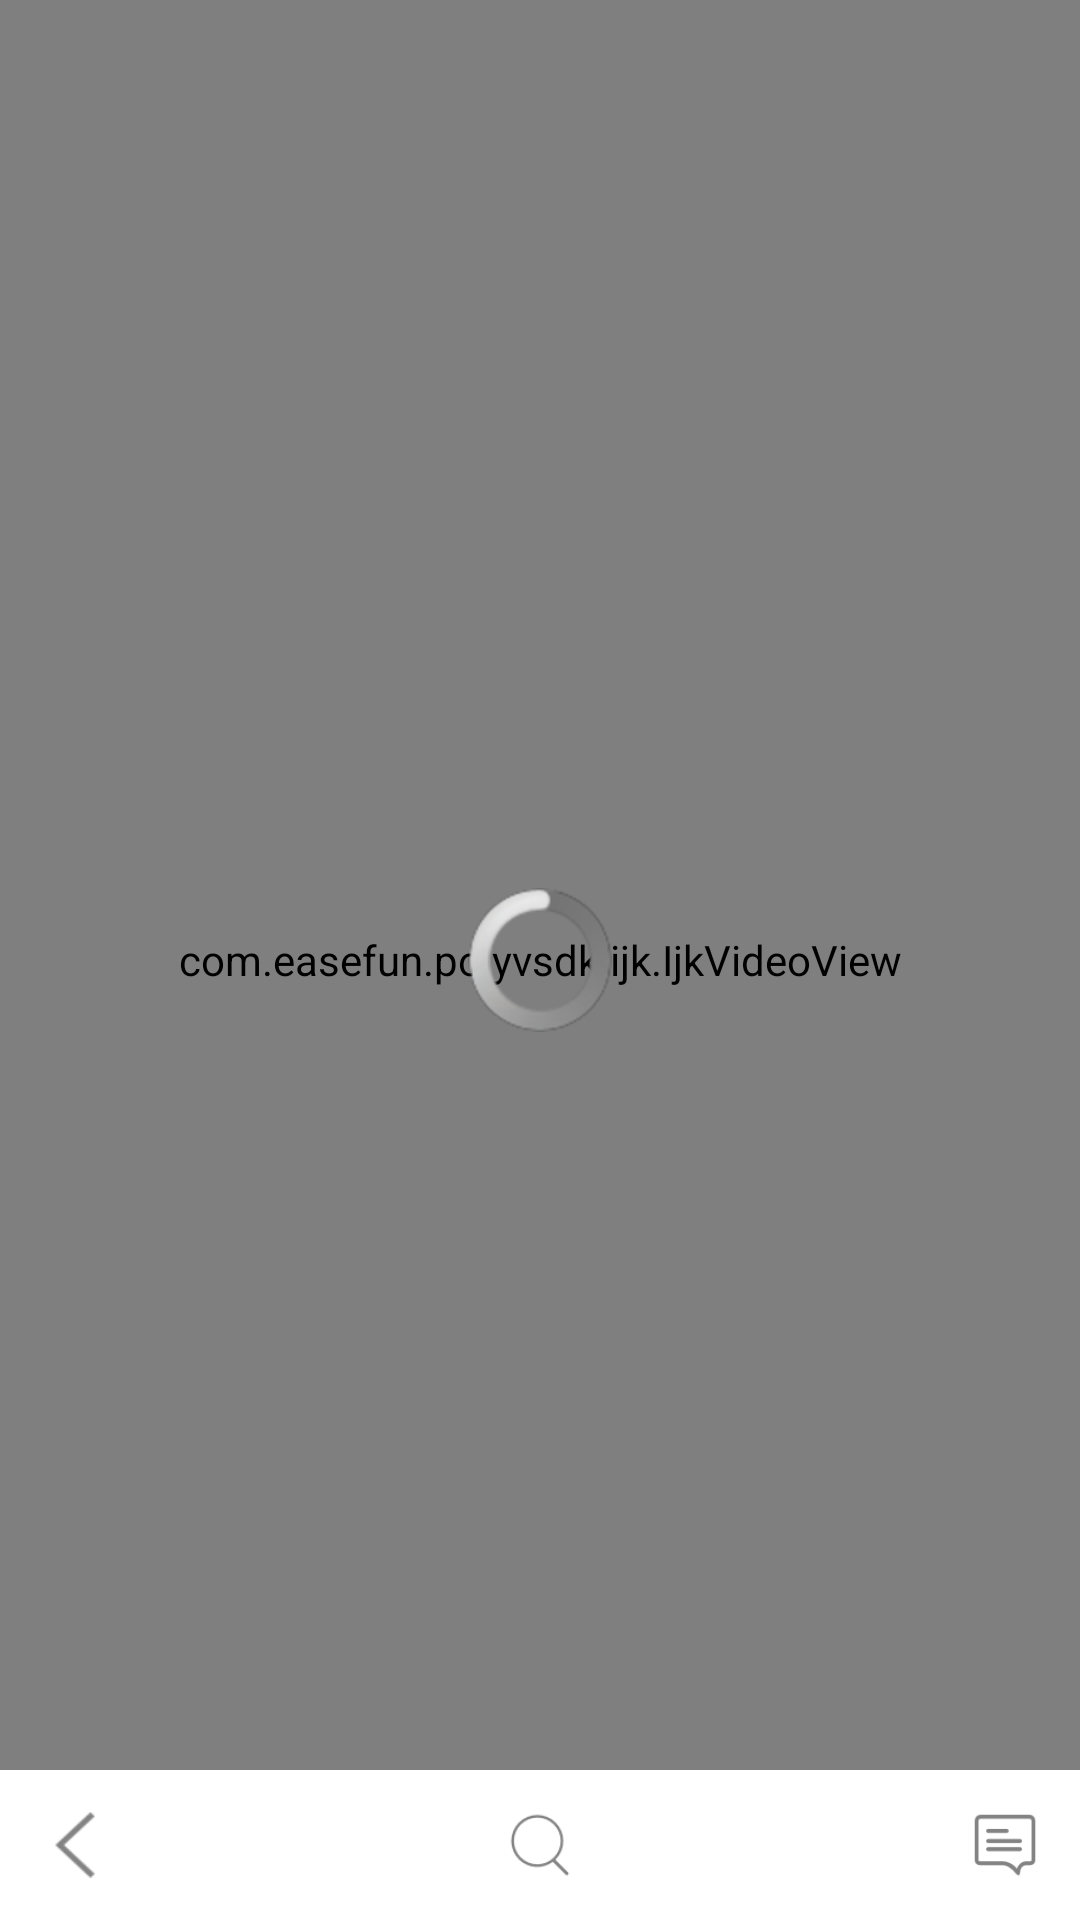

Named icons in this screenshot (1080px x 1920px) and their bounding boxes, (x1, y1, x2, y2):
back: (55, 1812, 95, 1878)
video comment: (974, 1814, 1036, 1876)
video search: (511, 1814, 569, 1876)
